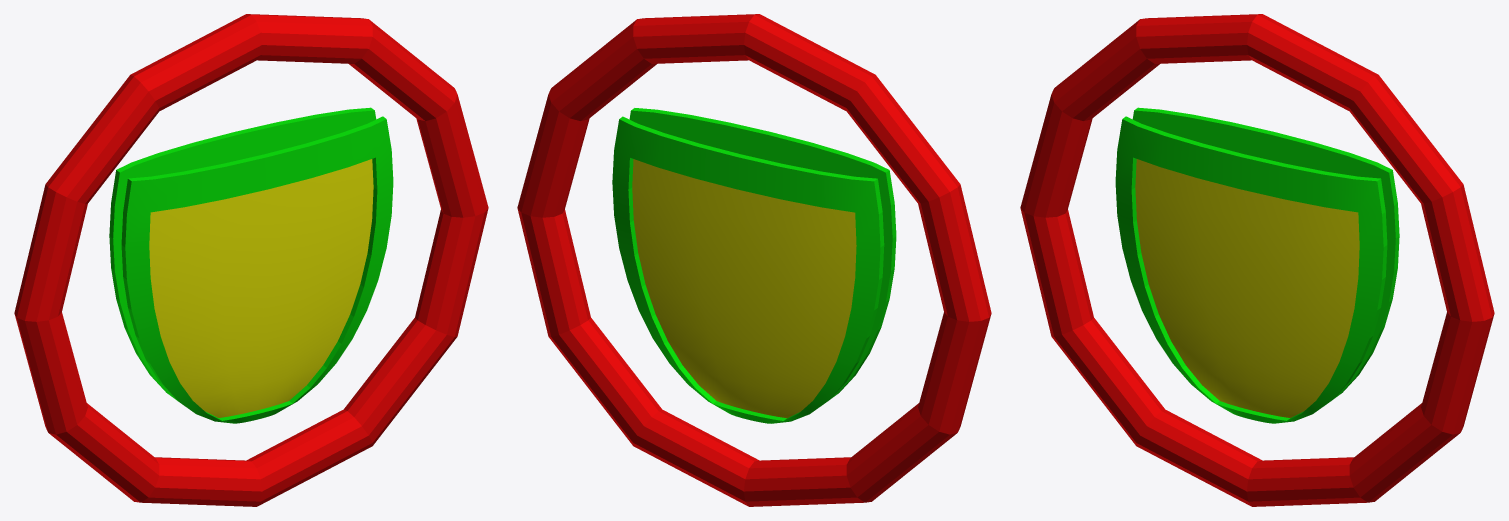
File: ShieldPickUp.fbx
3 renders of one model, left to right at view 1: azimuth 30°, elevation 25°; view 2: azimuth 150°, elevation 25°; view 3: azimuth 330°, elevation 25°, orthographic.
Visible parts, largest first — view 1: pSphere3; view 2: pSphere3; view 3: pSphere3.
Boxes of the visible parts, x1,y1,x2,y2 form: pSphere3: (14, 14, 488, 506); pSphere3: (517, 14, 991, 506); pSphere3: (1020, 14, 1494, 506).
Bounding box in the file's own units: 19.12 × 19.12 × 2.48.
